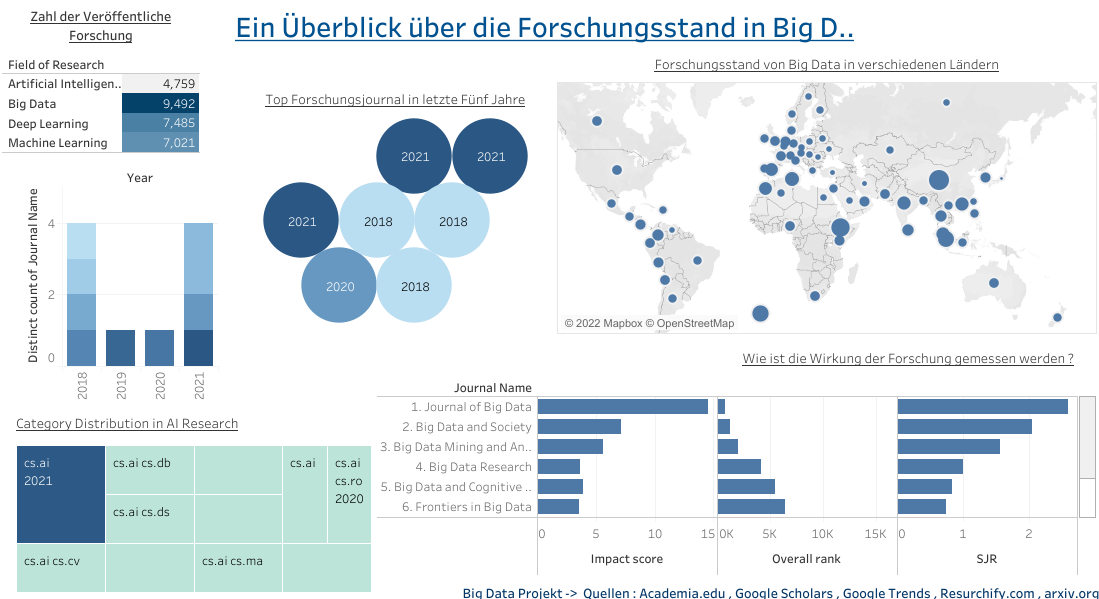

What the dashboard file says about the page in this screenshot:
{"tool":"tableau","page":{"name":"Big Data Project","canvas":[1100,600],"ordinal":0},"visuals":[{"type":"worksheet","title":"academia","mark":"Square","rows":["Field of Research"],"box":[2,0,198,153]},{"type":"title","box":[231,1,628,49]},{"type":"worksheet","title":"gtrends","mark":"Automatic","box":[557,48,540,286]},{"type":"worksheet","title":"gscholar","mark":"Circle","box":[258,83,275,240]},{"type":"worksheet","title":"gscholar2","mark":"Automatic","rows":["journal_name"],"cols":["year"],"box":[16,152,202,254]},{"type":"worksheet","title":"resurchify","mark":"Automatic","rows":["Journal Name"],"cols":["Impact_score","Overall_rank","SJR"],"box":[377,342,721,233]},{"type":"worksheet","title":"arxiv","mark":"Automatic","box":[12,407,363,190]}]}

Visuals, with their boxes in screenshot pixels (x1, y1, x2, y2), scaled from the page's 1100x600 canvas onto the 1099x599 screenshot:
"academia" worksheet (Square marks): (2, 0, 200, 153)
title: (231, 1, 858, 50)
"gtrends" worksheet: (556, 48, 1096, 333)
"gscholar" worksheet (Circle marks): (258, 83, 533, 322)
"gscholar2" worksheet: (16, 152, 218, 405)
"resurchify" worksheet: (377, 341, 1097, 574)
"arxiv" worksheet: (12, 406, 375, 596)
